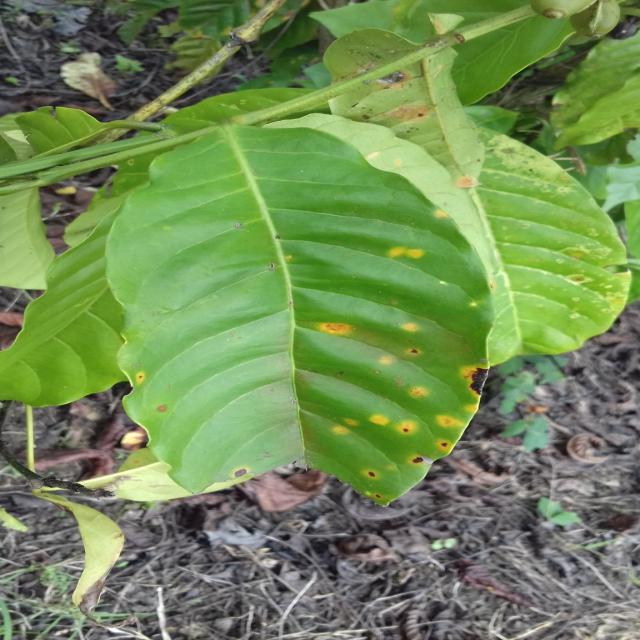Enfermedad-Roya: (104, 127, 515, 508)
